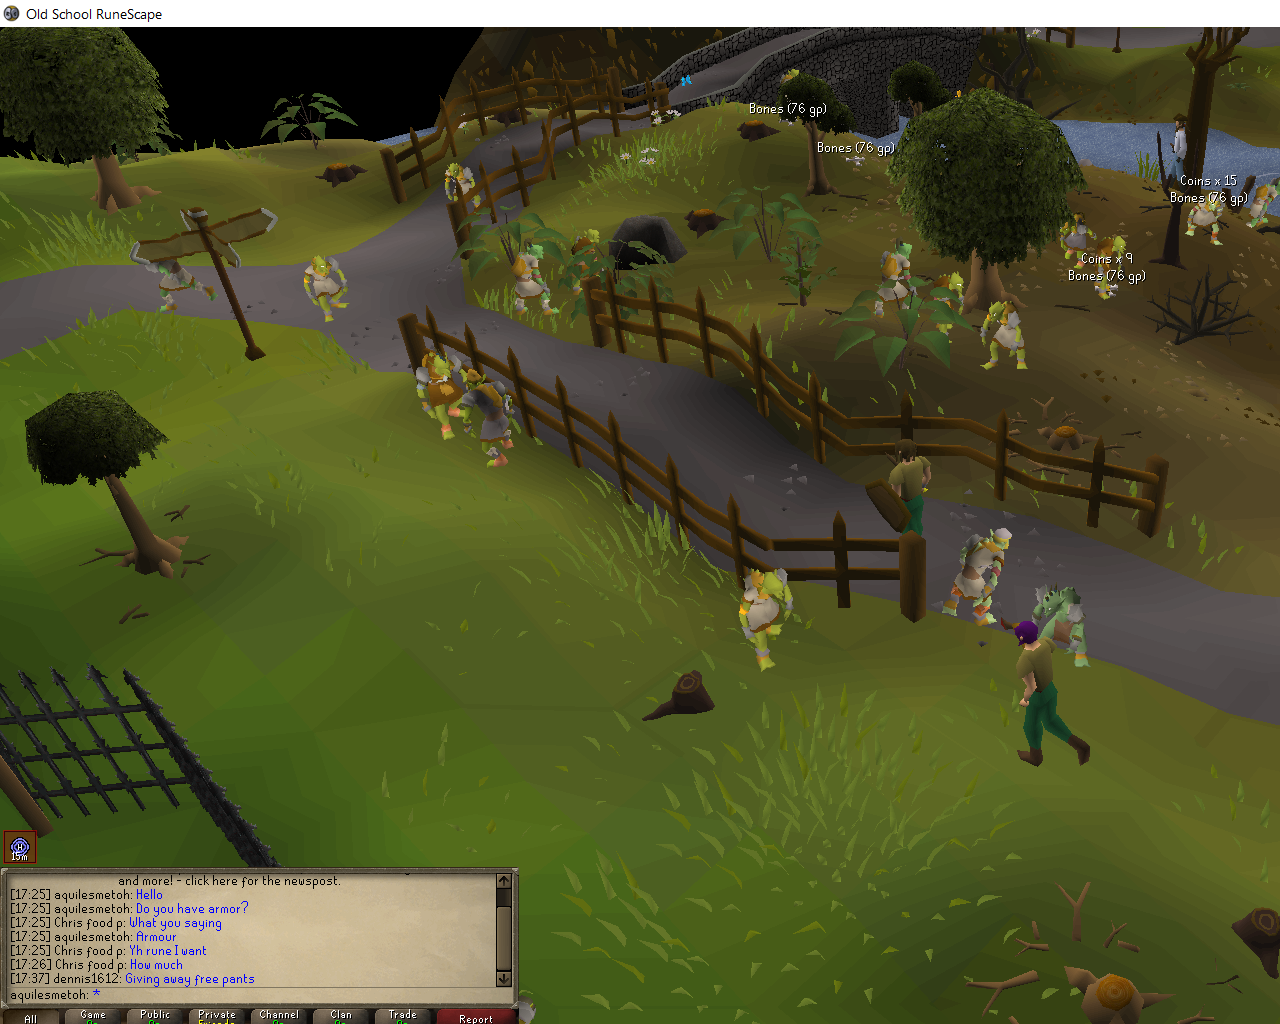Goblin: (939, 523, 1020, 628), (728, 561, 800, 673), (455, 370, 528, 471), (133, 243, 219, 319), (1029, 580, 1097, 671), (408, 351, 472, 444), (505, 239, 562, 319), (980, 295, 1037, 375), (906, 271, 968, 340), (296, 253, 356, 323), (876, 239, 918, 317), (1089, 234, 1133, 305), (565, 227, 608, 298), (1055, 209, 1096, 283), (1182, 188, 1230, 247), (438, 160, 489, 211), (1244, 177, 1280, 236)
